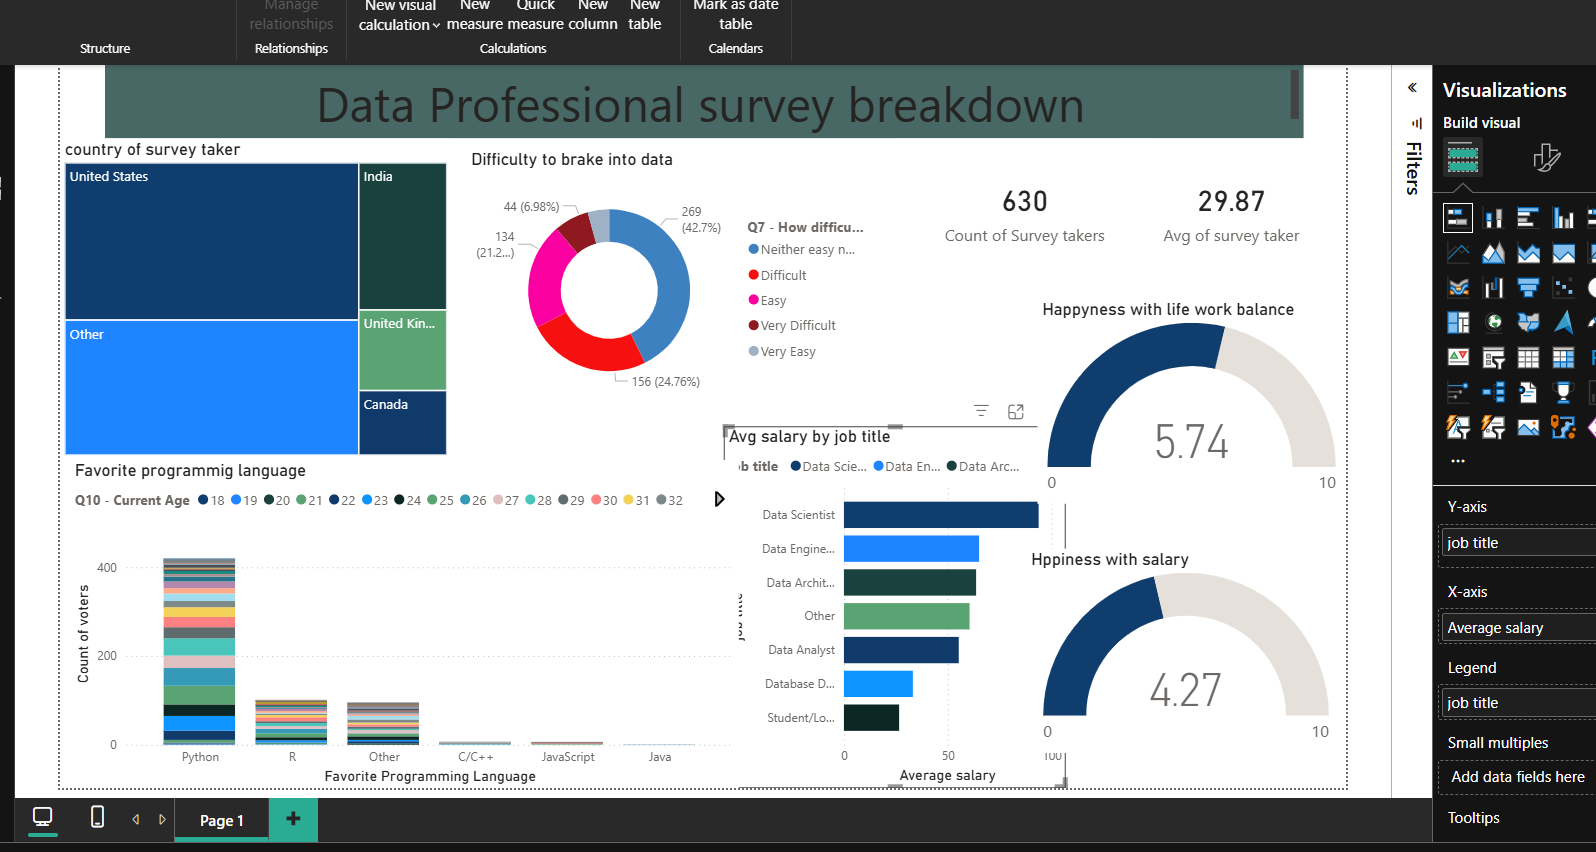

What the dashboard file says about the page in this screenshot:
{"tool":"powerbi","page":{"name":"Page 1","canvas":[1280,720],"ordinal":0},"visuals":[{"type":"textbox","box":[44.3,0,1192.9,72.9],"z":0},{"type":"card","fields":{"Values":["Count(Data Professional Survey.Unique ID)"]},"box":[831.4,72.9,258.6,141.4],"z":1000},{"type":"card","fields":{"Values":["Avg(Data Professional Survey.Q10 - Current Age)"]},"box":[1052.9,72.9,227.1,141.4],"z":2000},{"type":"barChart","title":"Avg salary by job title","fields":{"Category":["Data Professional Survey.Q1 - Which Title Best Fits your Current Role?.1"],"Y":["Avg(Data Professional Survey.Avg salary)"],"Series":["Data Professional Survey.Q1 - Which Title Best Fits your Current Role?.1"]},"box":[660,360,341.4,360],"z":3000},{"type":"columnChart","title":"Favorite programmig language","fields":{"Category":["Data Professional Survey.Q5 - Favorite Programming Language.1"],"Y":["CountNonNull(Data Professional Survey.Unique ID)"],"Series":["Data Professional Survey.Q10 - Current Age"]},"box":[10,392.9,665.7,327.1],"z":4000},{"type":"treemap","title":"country of survey taker","fields":{"Group":["Data Professional Survey.Q11 - Which Country do you live in?.1"],"Values":["CountNonNull(Data Professional Survey.Q11 - Which Country do you live in?.1)"]},"box":[0,72.9,390,320],"z":5000},{"type":"gauge","title":"Happyness with life work balance ","fields":{"Y":["Avg(Data Professional Survey.Q6 - How Happy are you in your Current Position with the following? (Work/Life Balance))"],"MinValue":["Min(Data Professional Survey.Q6 - How Happy are you in your Current Position with the following? (Work/Life Balance))1"],"MaxValue":["Max(Data Professional Survey.Q6 - How Happy are you in your Current Position with the following? (Work/Life Balance))2"]},"box":[972.9,232.9,307.1,204.3],"z":6000},{"type":"gauge","title":"Hppiness with salary","fields":{"Y":["Avg(Data Professional Survey.Q6 - How Happy are you in your Current Position with the following? (Salary))"],"MinValue":["Min(Data Professional Survey.Q6 - How Happy are you in your Current Position with the following? (Salary))"],"MaxValue":["Max(Data Professional Survey.Q6 - How Happy are you in your Current Position with the following? (Salary))"]},"box":[961.4,481.4,318.6,202.9],"z":7000},{"type":"donutChart","title":"Difficulty to brake into data","fields":{"Category":["Data Professional Survey.Q7 - How difficult was it for you to break into Data?"],"Y":["CountNonNull(Data Professional Survey.Q7 - How difficult was it for you to break into Data?)"]},"box":[404.3,82.9,402.9,262.9],"z":8000}]}

Visuals, with their boxes on the page's 1280x720 design canvas (x1, y1, x2, y2). These are canvas units, not pixel positions in the 1596x852 screenshot, which may show the page scaled, cropped or inside an application window:
textbox: 44:0:1237:73
card - Count(Data Professional Survey.Unique ID): 831:73:1090:214
card - Avg(Data Professional Survey.Q10 - Current Age): 1053:73:1280:214
"Avg salary by job title" barChart: 660:360:1001:720
"Favorite programmig language" columnChart: 10:393:676:720
"country of survey taker" treemap: 0:73:390:393
"Happyness with life work balance " gauge: 973:233:1280:437
"Hppiness with salary" gauge: 961:481:1280:684
"Difficulty to brake into data" donutChart: 404:83:807:346
